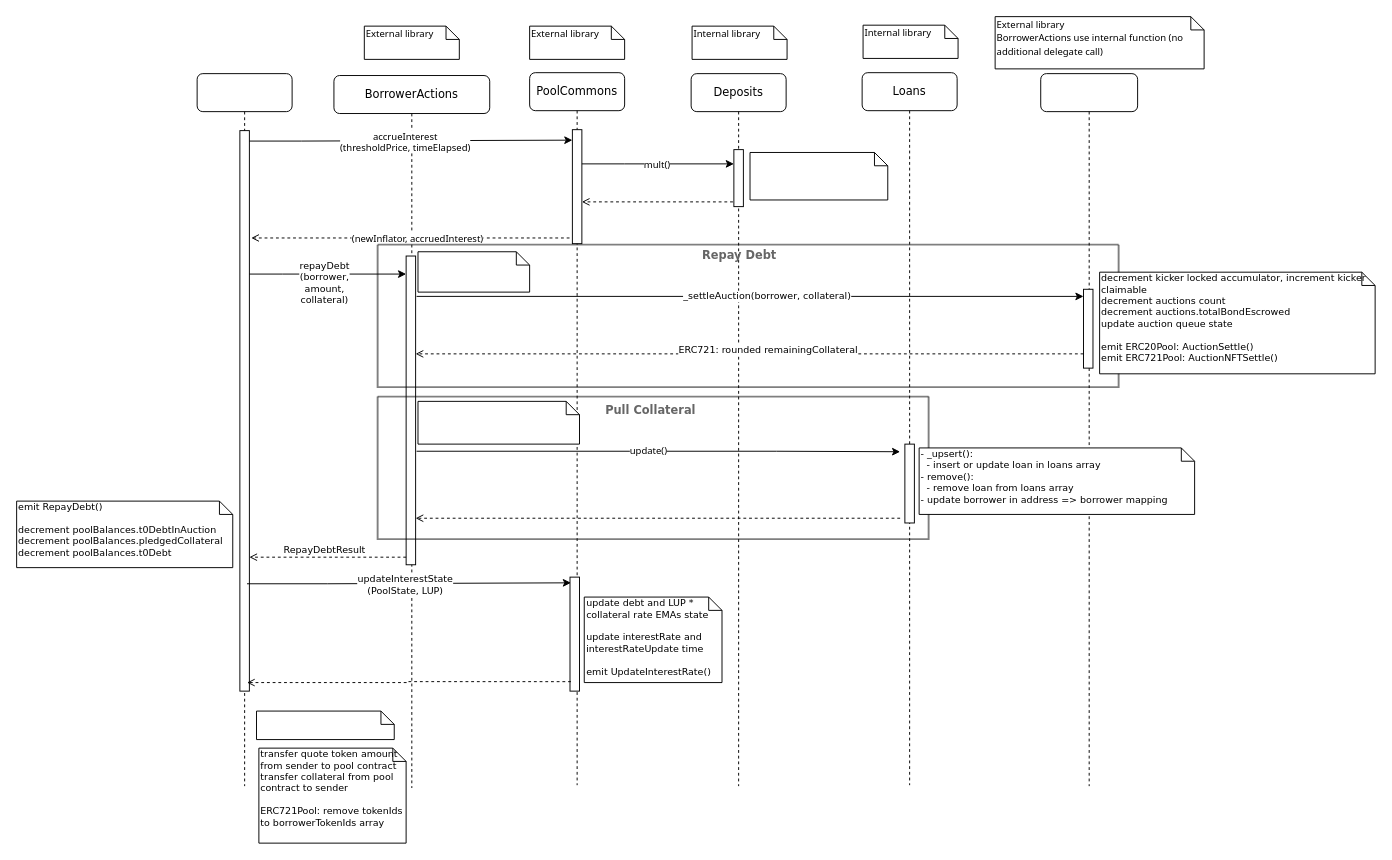
Some shapes in this 1392 by 860 pixel diagram are drawn without their labels. Each missing label, with the box of its shape:
Auctions: (1040, 73, 1138, 786)
Pool: (196, 73, 292, 786)
reverts: BorrowerNotSender() InSufficientCollateral(): (417, 400, 580, 444)
reverts: NoDebt() AmountLTMinDebt(): (417, 251, 530, 292)
Scale Fenwick Tree with the new interest accrued update scaling array state: (749, 152, 888, 200)
update inflator update inflatorUpdate time: (256, 710, 394, 740)
